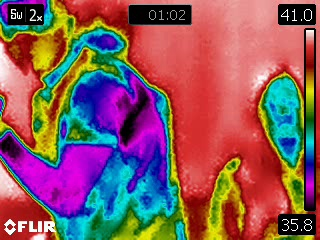human: (1, 1, 190, 239), (206, 65, 320, 240)
